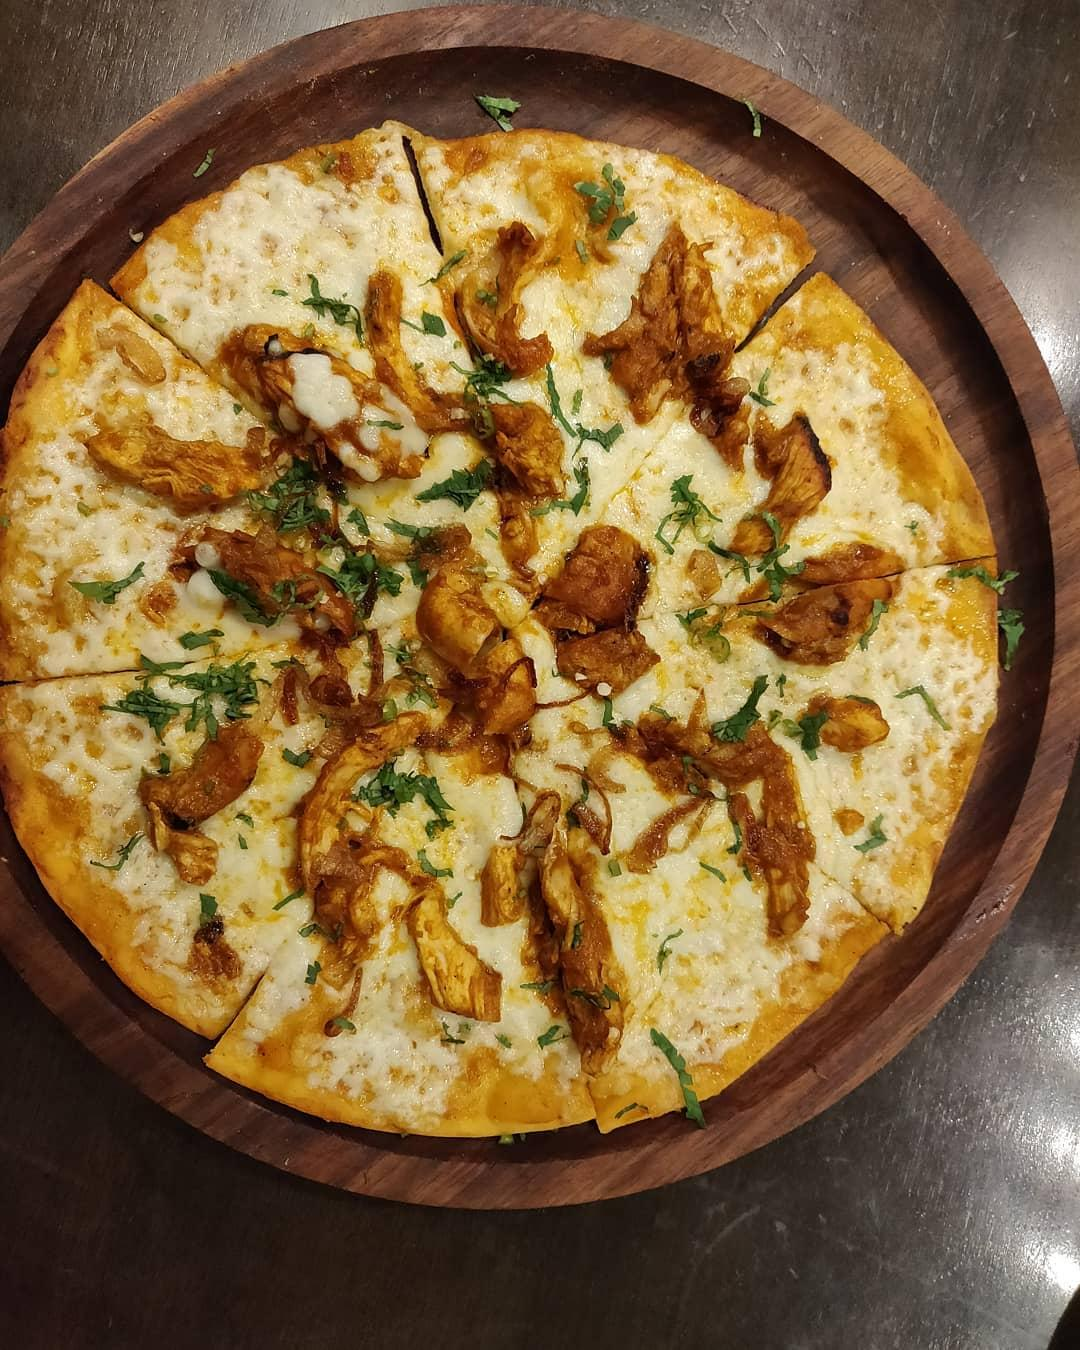Basil: (131, 658, 261, 725), (356, 756, 444, 830), (433, 336, 512, 398), (421, 453, 505, 505), (266, 488, 356, 533), (321, 541, 395, 594)
Cheese: (90, 699, 304, 957), (303, 914, 553, 1074), (626, 806, 756, 1005), (236, 201, 426, 330), (63, 486, 187, 661), (571, 423, 735, 538), (663, 551, 756, 714)
Chicken: (640, 713, 814, 927), (220, 326, 414, 478), (291, 716, 410, 963), (598, 226, 738, 414), (409, 543, 530, 733), (514, 825, 622, 1036), (360, 266, 469, 433), (541, 526, 649, 690), (191, 531, 355, 635), (748, 546, 892, 661), (96, 423, 271, 511), (393, 900, 499, 1026), (480, 391, 554, 570), (126, 736, 258, 830), (466, 220, 553, 363), (760, 423, 830, 512), (813, 701, 879, 748)
Pizza: (6, 126, 1002, 1140)
